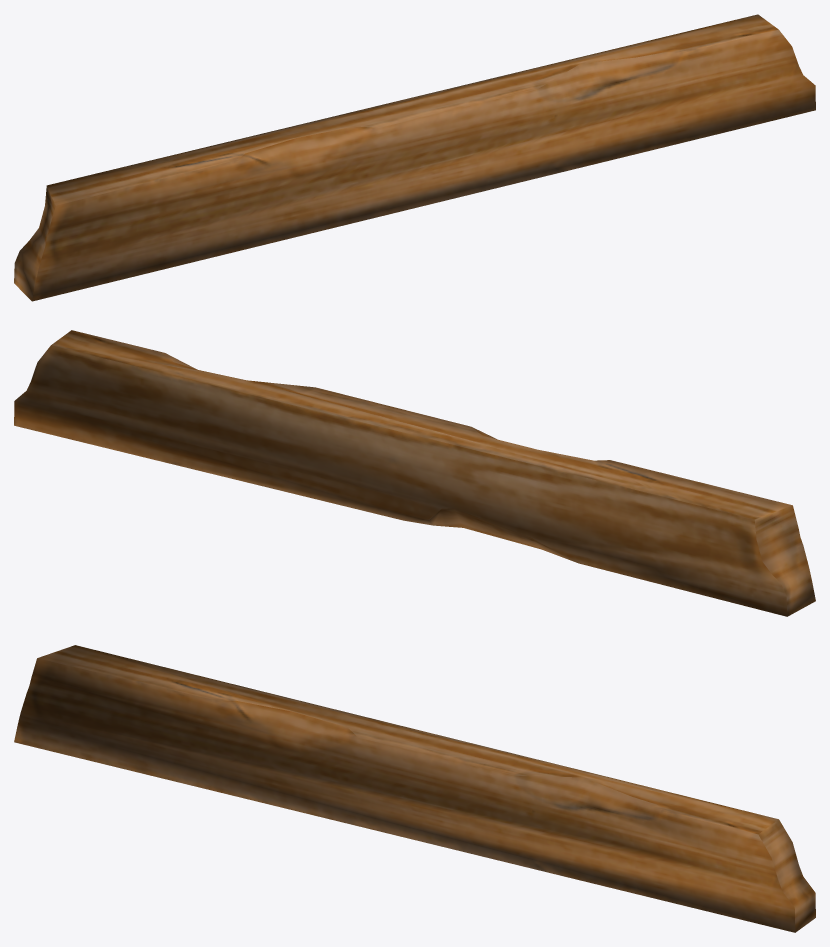
The model's file is plank_2.fbx.
The picture shows the model from 3 angles, top to bottom: view 1: azimuth 30°, elevation 25°; view 2: azimuth 150°, elevation 25°; view 3: azimuth 330°, elevation 25°; orthographic projection.
Parts seen in each view (by area): view 1: plank_2; view 2: plank_2; view 3: plank_2.
Boxes of the visible parts, <box> form: plank_2: <box>14,14,815,301</box>; plank_2: <box>14,330,815,616</box>; plank_2: <box>14,645,815,932</box>.
Bounding box in the file's own units: 2.02 × 0.235 × 0.1114.
